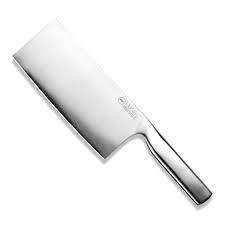Knife: (11, 15, 212, 206)
